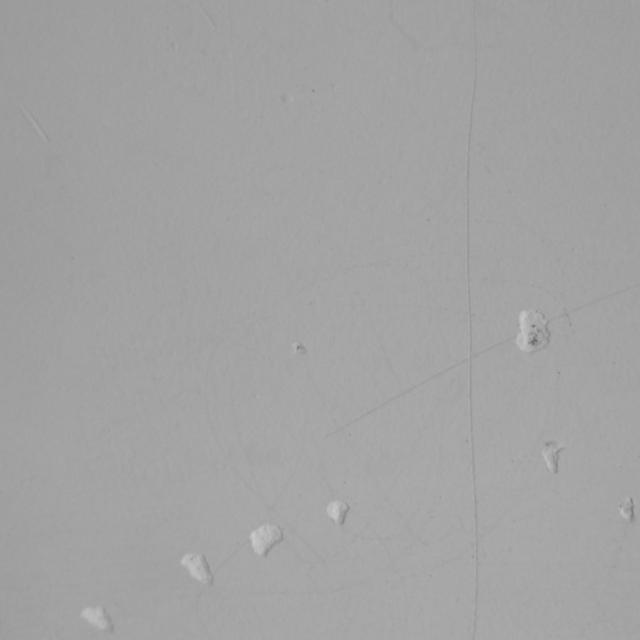rough and patchy surface: (3, 81, 92, 166), (521, 415, 605, 496), (318, 479, 397, 562), (501, 291, 564, 379), (220, 520, 318, 562), (160, 542, 246, 584), (270, 341, 360, 377), (272, 76, 310, 128), (86, 596, 128, 640), (192, 0, 226, 46), (608, 494, 640, 521)
